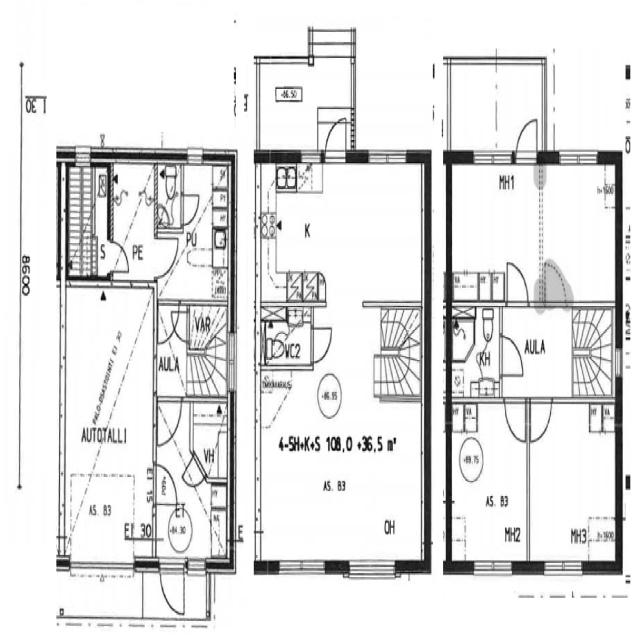door: (502, 255, 532, 312), (158, 559, 186, 619), (527, 390, 555, 448), (154, 394, 183, 450), (503, 393, 533, 445), (498, 331, 526, 382), (514, 112, 541, 164), (158, 303, 186, 350), (323, 116, 348, 167), (106, 238, 132, 285), (154, 462, 180, 508), (308, 323, 334, 366), (154, 236, 178, 279)
window: (552, 140, 604, 173), (272, 553, 332, 581), (344, 554, 400, 584), (70, 556, 140, 580), (361, 141, 413, 171), (470, 553, 517, 584), (538, 553, 588, 582), (469, 144, 516, 172), (226, 328, 239, 393), (612, 342, 626, 382), (298, 147, 323, 169), (184, 145, 206, 168), (72, 144, 94, 166), (186, 555, 208, 577)
zone: (255, 377, 427, 569), (62, 278, 154, 566), (254, 160, 426, 308), (527, 401, 618, 567), (449, 395, 529, 568), (448, 158, 546, 287), (540, 158, 619, 304), (156, 162, 232, 304), (107, 154, 157, 284), (64, 156, 108, 279), (449, 303, 501, 401), (188, 400, 231, 482), (260, 309, 314, 367)
